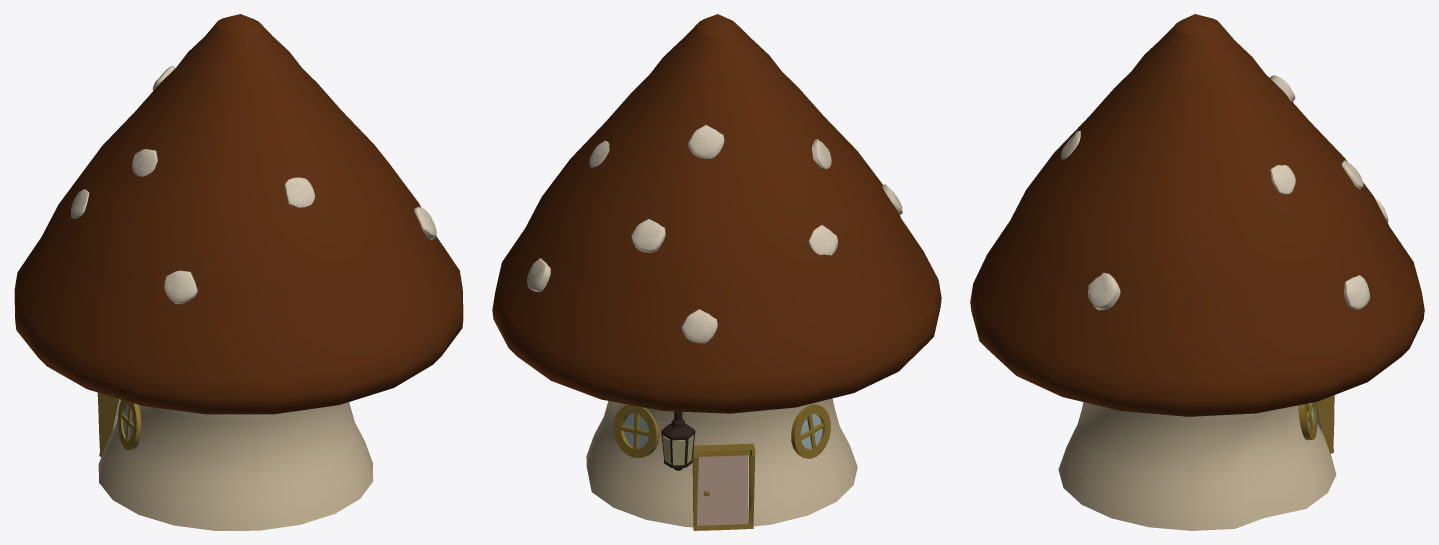
File: mushroom house.fbx
3 renders of one model, left to right at view 1: azimuth 30°, elevation 25°; view 2: azimuth 150°, elevation 25°; view 3: azimuth 270°, elevation 25°, orthographic.
Visible parts, largest first — view 1: pasted__polySurface297, pasted__polySurface285, pasted__polySurface302, pasted__polySurface324, pasted__polySurface281, pasted__polySurface315, pasted__polySurface289; view 2: pasted__polySurface297, pasted__polySurface285, pasted__polySurface311, pasted__polySurface324, pasted__polySurface295, pasted__polySurface315, pasted__polySurface320, pasted__polySurface319, pasted__polySurface326, pasted__polySurface292, pasted__polySurface309, pasted__polySurface299; view 3: pasted__polySurface297, pasted__polySurface285, pasted__polySurface300, pasted__polySurface299, pasted__polySurface324, pasted__polySurface322.
Boxes of the visible parts, left/top/right/bottom form: pasted__polySurface297: left=14, top=14, right=463, bottom=414; pasted__polySurface285: left=98, top=402, right=373, bottom=530; pasted__polySurface302: left=164, top=270, right=197, bottom=304; pasted__polySurface324: left=97, top=392, right=118, bottom=456; pasted__polySurface281: left=284, top=177, right=314, bottom=207; pasted__polySurface315: left=117, top=399, right=141, bottom=450; pasted__polySurface289: left=132, top=149, right=157, bottom=176; pasted__polySurface297: left=492, top=14, right=941, bottom=413; pasted__polySurface285: left=586, top=398, right=857, bottom=527; pasted__polySurface311: left=697, top=455, right=747, bottom=525; pasted__polySurface324: left=692, top=443, right=755, bottom=530; pasted__polySurface295: left=613, top=404, right=659, bottom=457; pasted__polySurface315: left=791, top=404, right=830, bottom=458; pasted__polySurface320: left=661, top=411, right=695, bottom=470; pasted__polySurface319: left=687, top=125, right=724, bottom=158; pasted__polySurface326: left=681, top=309, right=717, bottom=343; pasted__polySurface292: left=631, top=219, right=665, bottom=252; pasted__polySurface309: left=808, top=225, right=838, bottom=255; pasted__polySurface299: left=527, top=258, right=550, bottom=292; pasted__polySurface297: left=970, top=14, right=1424, bottom=416; pasted__polySurface285: left=1058, top=402, right=1336, bottom=530; pasted__polySurface300: left=1088, top=272, right=1120, bottom=310; pasted__polySurface299: left=1344, top=275, right=1370, bottom=309; pasted__polySurface324: left=1316, top=395, right=1334, bottom=453; pasted__polySurface322: left=1270, top=165, right=1295, bottom=194.
Size of the model in its own units: 138 by 155 by 138.
